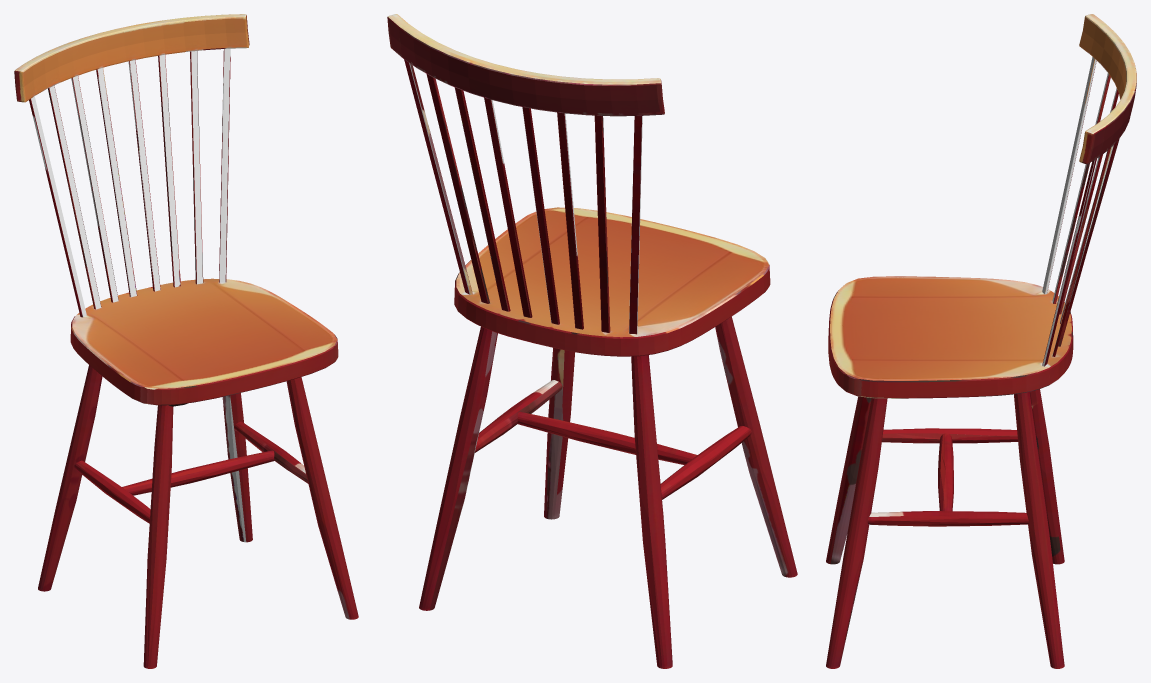
File: edited_mesh.glb
The picture shows the model from 3 angles, left to right: view 1: azimuth 30°, elevation 25°; view 2: azimuth 150°, elevation 25°; view 3: azimuth 270°, elevation 25°; orthographic projection. The views are drawn at different scales.
Visible parts, largest first — view 1: normalized_model.obj; view 2: normalized_model.obj; view 3: normalized_model.obj.
Boxes of the visible parts, x1=… form: normalized_model.obj: x1=14, y1=14, x2=358, y2=668; normalized_model.obj: x1=387, y1=14, x2=797, y2=668; normalized_model.obj: x1=826, y1=14, x2=1136, y2=668.
Size of the model in its own units: 0.7566 by 1.59 by 0.8261.
Materials: 1 (1 with a texture image).
